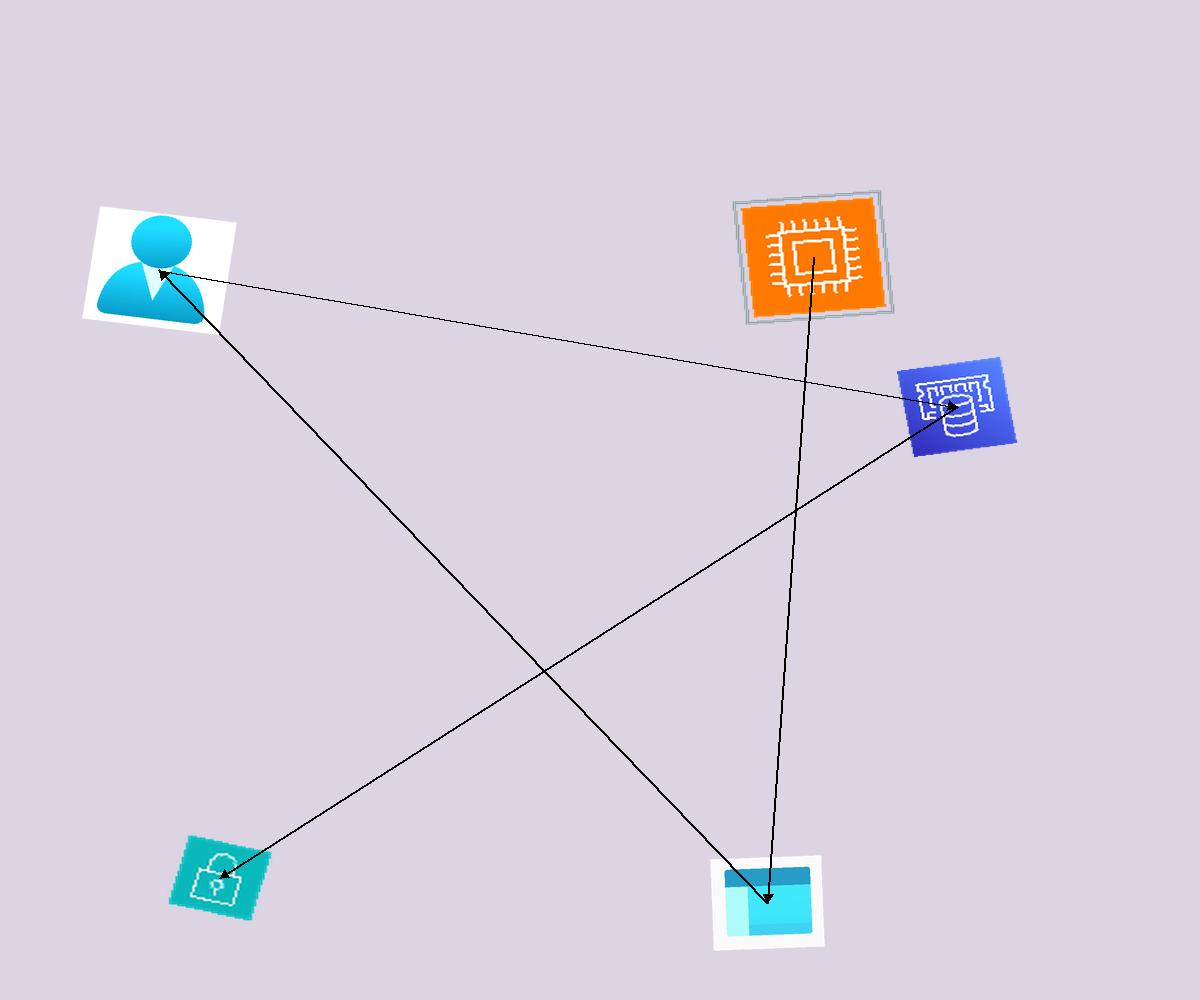AWS-Category_Compute: (731, 189, 896, 326)
AWS-ElastiCache: (897, 357, 1017, 457)
AWS-Private-subnet: (167, 834, 273, 922)
Azure_management-portal: (710, 855, 825, 951)
Azure_users: (82, 206, 237, 335)
